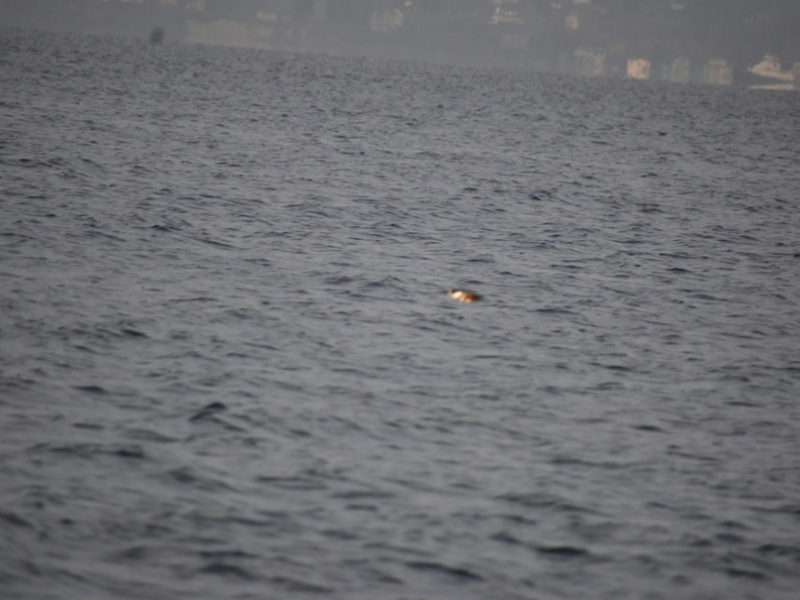kingfisher: (436, 285, 487, 305)
